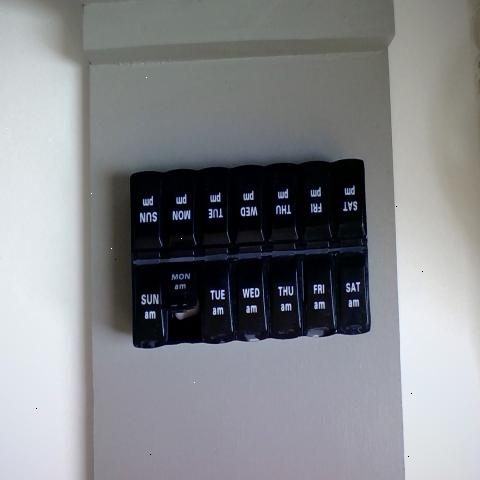FRI-am: (298, 256, 335, 334)
FRI-pm: (294, 163, 328, 249)
MON-pm: (163, 177, 197, 260)
Open: (166, 312, 196, 344)
PillBox: (112, 137, 387, 360)
SAT-am: (335, 252, 366, 332)
SAT-pm: (328, 165, 364, 248)
SUN-am: (132, 265, 165, 348)
SUN-pm: (131, 176, 162, 264)
THU-am: (269, 260, 297, 338)
THU-pm: (260, 163, 296, 252)
TUE-am: (198, 262, 232, 343)
TUE-pm: (198, 174, 228, 256)
WED-am: (234, 256, 266, 339), (231, 173, 262, 254)
